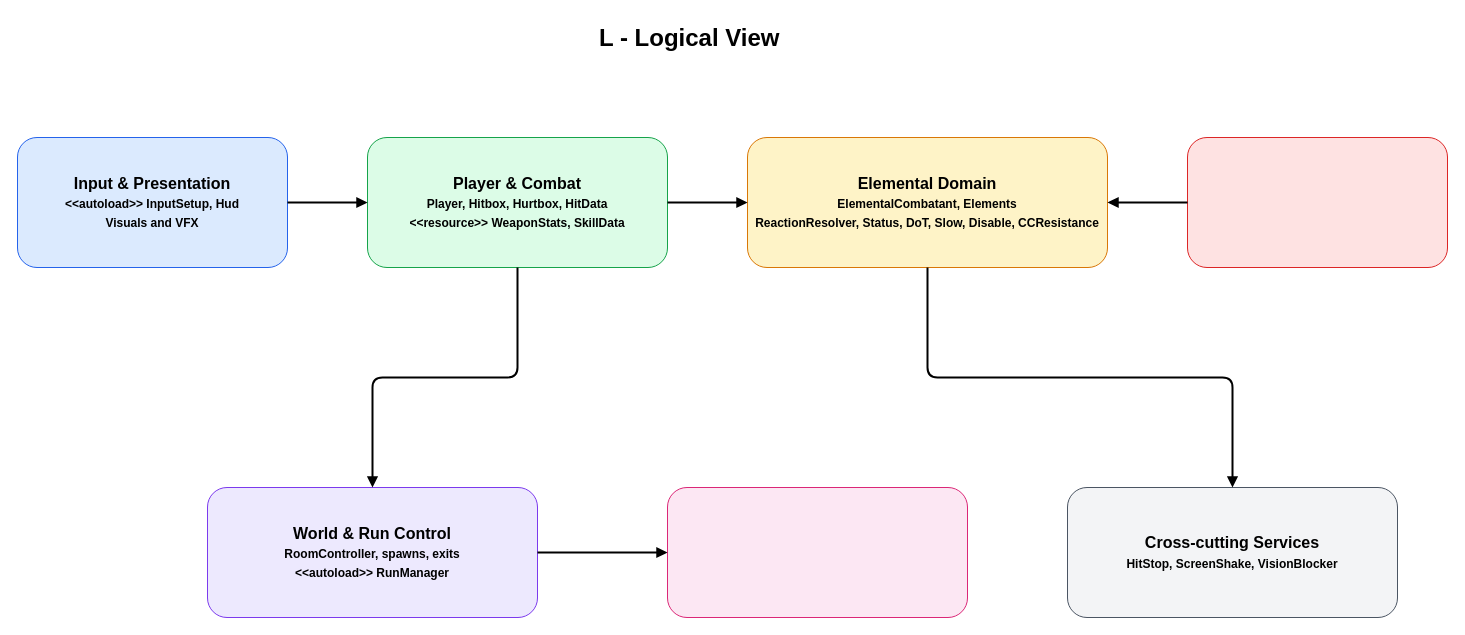
This 1465x635 diagram has some shape labels left out. Each missing label, with the box of its shape:
Enemies Enemy bodies, EnemyCombatAI EnemyStats, BossStats: (1186, 136, 1448, 268)
Persistence <<autoload>> SaveManager user://save_data.json: (666, 486, 968, 618)
